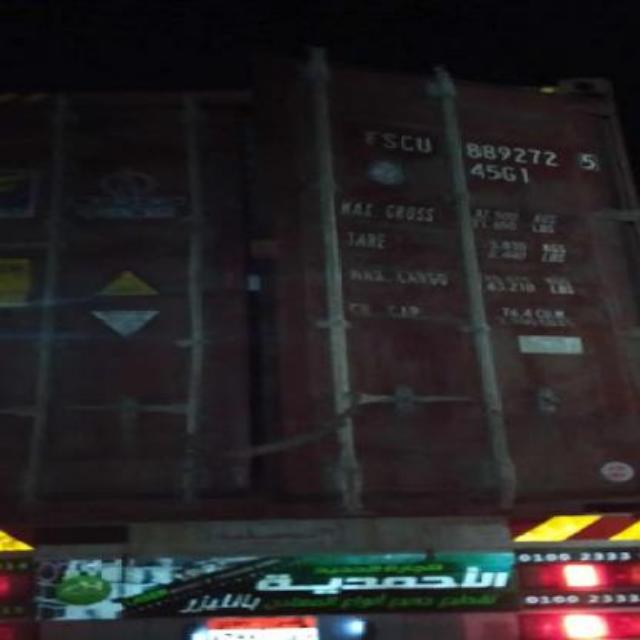2: (511, 145, 532, 165), (540, 150, 558, 164)
5: (578, 153, 596, 169)
7: (526, 146, 542, 166)
8: (482, 144, 500, 160), (466, 140, 479, 160)
9: (498, 144, 512, 162)
C: (400, 132, 420, 152)
F: (364, 130, 384, 146)
S: (384, 133, 398, 149)
U: (414, 136, 432, 154)
